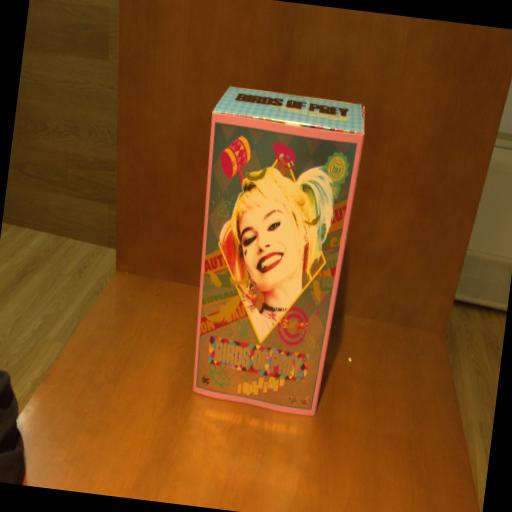Harley: (176, 84, 368, 424)
